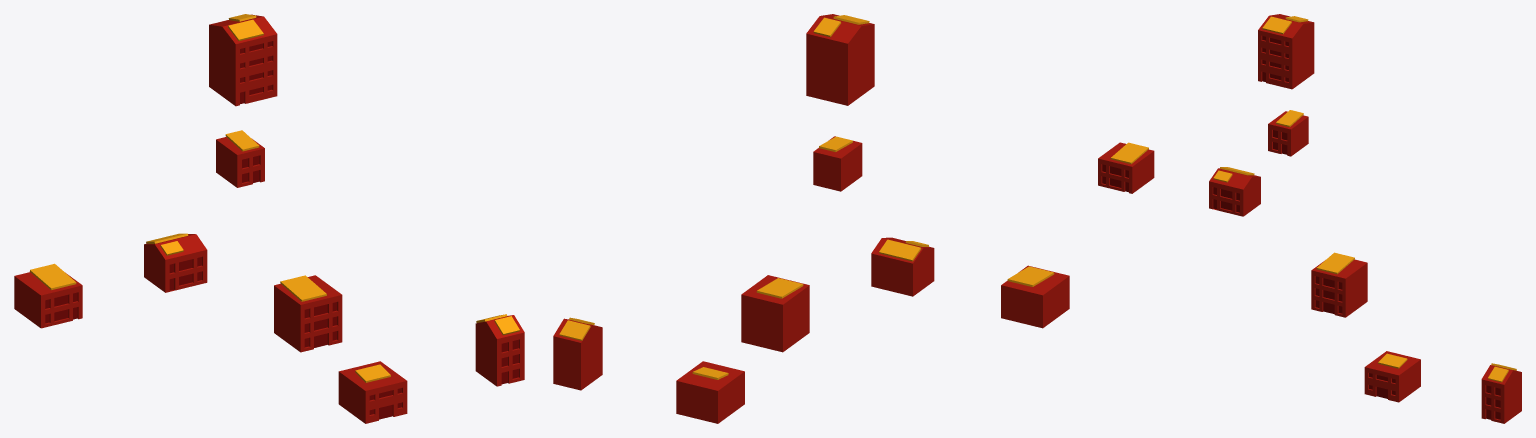
The model's file is BinaGrup1.gltf.
3 views of the same model, side by side, from view 1: azimuth 30°, elevation 25°; view 2: azimuth 150°, elevation 25°; view 3: azimuth 330°, elevation 25° (orthographic). The views are drawn at different scales.
Parts seen in each view (by area): view 1: Building_037.019, Building_047.019, Building_055.019, Building_069.017, Building_032.019, Building_018.019, Building_038.019, Building_018_RoofCap_0.004, Building_047_RoofCap_0.004, Building_047.020, Building_037.020, Building_037_RoofCap_0.004; view 2: Building_037.019, Building_047.019, Building_055.019, Building_018.019, Building_069.017, Building_032.019, Building_038.019, Building_032_RoofCap_1.004, Building_018_RoofCap_0.004, Building_047_RoofCap_0.004; view 3: Building_037.019, Building_047.019, Building_055.019, Building_069.017, Building_032.019, Building_018.019, Building_038.019, Building_018_RoofCap_0.004, Building_047_RoofCap_0.004, Building_047.020.
Boxes of the visible parts, x1,y1,x2,y2 form: Building_037.019: [209, 14, 277, 106]; Building_047.019: [274, 275, 342, 352]; Building_055.019: [338, 361, 407, 423]; Building_069.017: [475, 315, 524, 386]; Building_032.019: [144, 234, 207, 292]; Building_018.019: [14, 272, 82, 328]; Building_038.019: [216, 137, 264, 187]; Building_018_RoofCap_0.004: [29, 263, 76, 290]; Building_047_RoofCap_0.004: [280, 275, 326, 301]; Building_047.020: [304, 302, 336, 347]; Building_037.020: [240, 41, 272, 94]; Building_037_RoofCap_0.004: [228, 19, 263, 41]; Building_037.019: [806, 14, 874, 105]; Building_047.019: [741, 275, 809, 352]; Building_055.019: [676, 361, 744, 423]; Building_018.019: [1001, 265, 1069, 328]; Building_069.017: [553, 318, 602, 390]; Building_032.019: [871, 237, 934, 296]; Building_038.019: [813, 136, 862, 191]; Building_032_RoofCap_1.004: [879, 239, 921, 261]; Building_018_RoofCap_0.004: [1007, 266, 1054, 286]; Building_047_RoofCap_0.004: [756, 278, 803, 298]; Building_037.019: [1258, 14, 1314, 89]; Building_047.019: [1311, 259, 1367, 317]; Building_055.019: [1364, 351, 1420, 402]; Building_069.017: [1481, 365, 1521, 423]; Building_032.019: [1209, 168, 1260, 216]; Building_018.019: [1098, 142, 1154, 193]; Building_038.019: [1268, 111, 1308, 156]; Building_018_RoofCap_0.004: [1110, 142, 1148, 164]; Building_047_RoofCap_0.004: [1316, 252, 1354, 274]; Building_047.020: [1315, 276, 1342, 313].
Size of the model in its own units: 0.5734 by 0.4709 by 0.0543.
